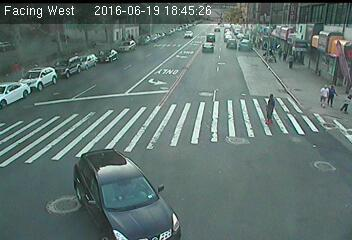neg: (50, 124, 78, 161), (59, 83, 83, 115), (191, 41, 214, 71), (153, 49, 175, 78), (181, 167, 203, 196), (252, 166, 274, 195), (217, 186, 239, 215), (124, 180, 146, 208), (55, 191, 76, 220), (241, 37, 262, 65), (312, 149, 332, 176), (55, 41, 75, 68), (12, 115, 32, 141), (117, 90, 136, 117), (90, 52, 108, 77), (84, 158, 101, 181), (234, 129, 250, 150), (171, 107, 185, 126)
pos: (258, 83, 289, 125), (313, 83, 330, 106), (9, 58, 26, 80), (326, 82, 341, 102)
